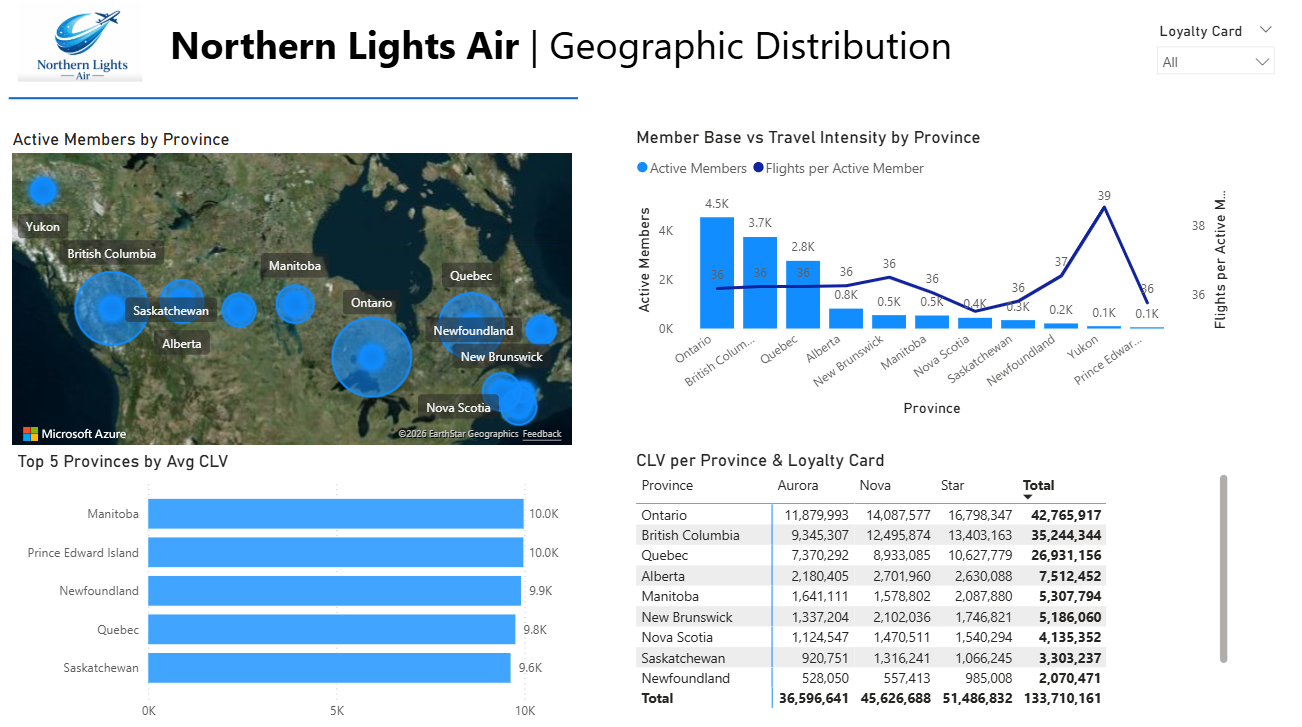

Layout of this report page (visuals, bound fields, positions):
{"tool":"powerbi","page":{"name":"Geographic Distribution","canvas":[1280,720],"ordinal":3},"visuals":[{"type":"lineStackedColumnComboChart","title":"Member Base vs Travel Intensity by Province","fields":{"Category":["Dim_Customer.Province"],"Y2":["Measure Table.Flights per Active Member"],"Y":["Measure Table.# Active Members"]},"box":[622.9,132.5,588.5,287.9],"z":0},{"type":"pivotTable","title":"CLV per Province & Loyalty Card","fields":{"Rows":["Dim_Customer.Province"],"Columns":["Dim_Customer.Loyalty Card"],"Values":["Measure Table.Total CLV"]},"box":[622.6,447.6,588.9,257.6],"z":1000},{"type":"slicer","fields":{"Values":["Dim_Customer.Loyalty Card"]},"box":[1126.8,24.8,135.9,84.8],"z":2000},{"type":"textbox","box":[166,20.9,1012,66.1],"z":3000},{"type":"shape","box":[13.2,29.2,556.8,149.1],"z":4000},{"type":"azureMap","fields":{"Category":["Dim_Customer.Province"],"Size":["Measure Table.Active Members"]},"box":[12.7,133.8,556.7,314.7],"z":5000},{"type":"barChart","title":"Top 5 Provinces by Avg CLV","fields":{"Category":["Dim_Customer.Province"],"Y":["Dim_Customer.Avg CLV Active"]},"box":[16.8,448.2,549.1,272.3],"z":6000},{"type":"image","box":[0,6.3,166.3,86.3],"z":7000}]}

Visuals, with their boxes in screenshot pixels (x1, y1, x2, y2), scaled from the page's 1280x720 canvas onto the 1302x727 screenshot:
"Member Base vs Travel Intensity by Province" lineStackedColumnComboChart: crop(634, 134, 1232, 424)
"CLV per Province & Loyalty Card" pivotTable: crop(633, 452, 1232, 712)
slicer - Dim_Customer.Loyalty Card: crop(1146, 25, 1284, 111)
textbox: crop(169, 21, 1198, 88)
shape: crop(13, 29, 580, 180)
azureMap - Dim_Customer.Province x Measure Table.Active Members: crop(13, 135, 579, 453)
"Top 5 Provinces by Avg CLV" barChart: crop(17, 453, 576, 726)
image: crop(0, 6, 169, 94)
